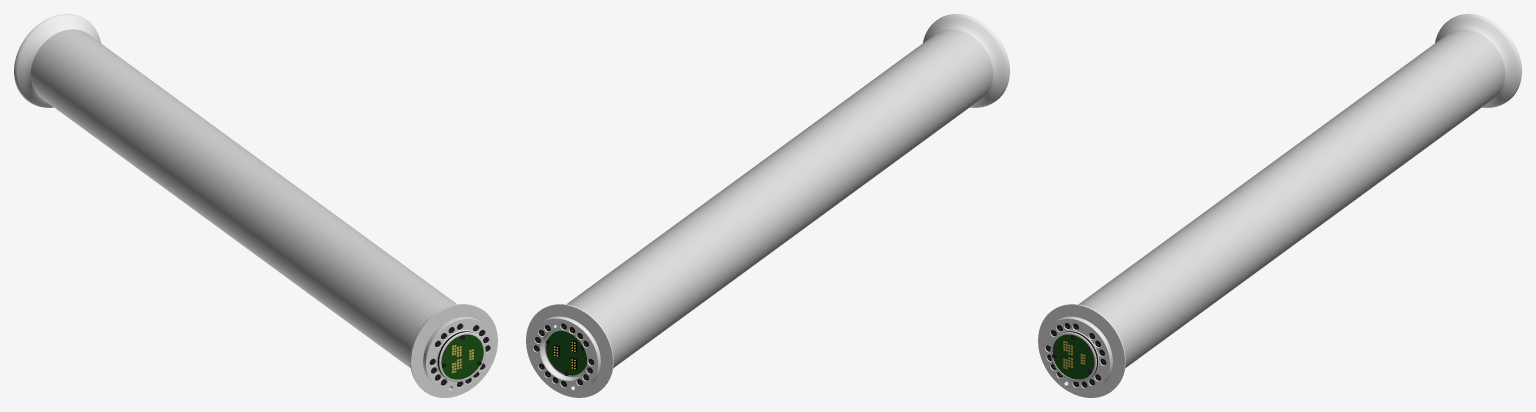
The picture shows the model from 3 angles, left to right: view 1: azimuth 30°, elevation 25°; view 2: azimuth 150°, elevation 25°; view 3: azimuth 330°, elevation 25°; orthographic projection.
Parts seen in each view (by area): view 1: I86.001; view 2: I86.001; view 3: I86.001.
Part boxes in pixels (box(x1,y1,x2,y2)): I86.001: box(14, 14, 497, 397); I86.001: box(526, 14, 1009, 397); I86.001: box(1038, 14, 1521, 397).
Size of the model in its own units: 0.086 by 0.086 by 0.7048.
